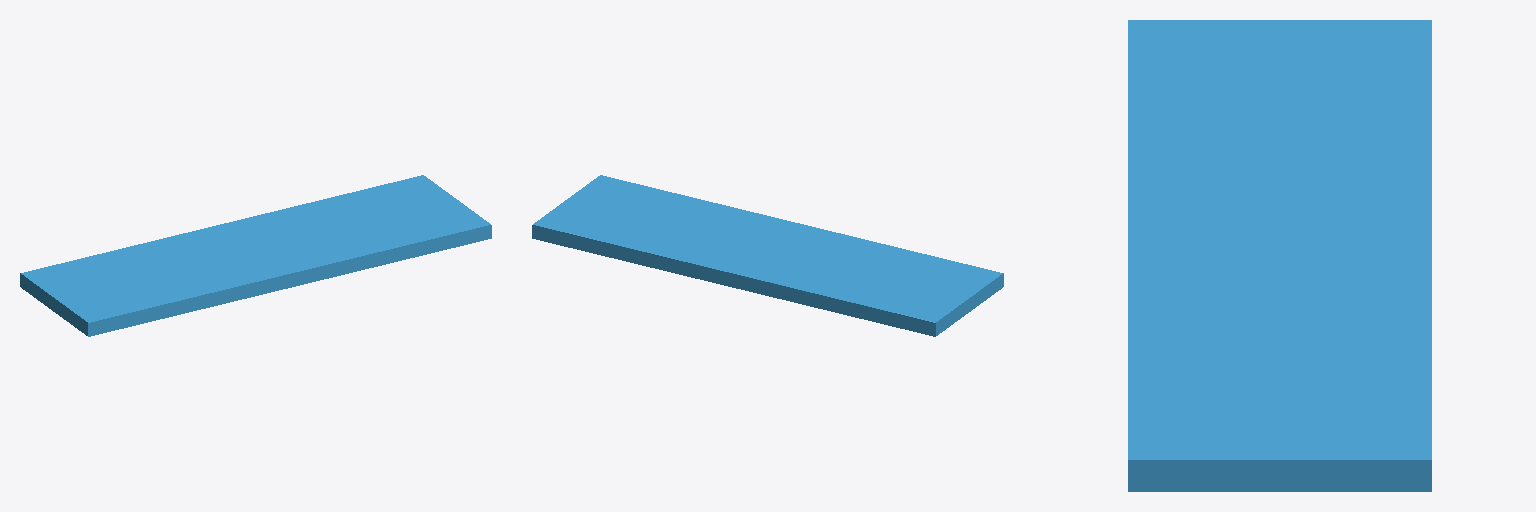
robot.urdf — cylinder_16:
    
    <robot name="cylinder_16">
        <link name="cylinder_16">    
            <fem>
                <origin rpy="0.0 0.0 0.0" xyz="0 0 0" />
                <density value="100" />
                <youngs value="8215"/>
                <poissons value="0.3" />
                <damping value="0.0" />
                <attachDistance value="0.01" />
                <tetmesh filename="[local-path]/sim_data/Custom/Custom_mesh/multi_cylinders_10kPa/cylinder_16.tet" />
                <scale value="0.5"/>
            </fem>
        </link>

        <link name="fix_frame">
            <visual>
                <origin xyz="0.0 0.0 10.073207908030156"/>
                <geometry>
                    <box size="0.15 0.04379873446901357 0.005"/>
                </geometry>
            </visual>
            <collision>
                <origin xyz="0.0 0.0 0.07320790803015535"/>
                <geometry>
                    <box size="0.15 0.04379873446901357 0.005"/>
                </geometry>
            </collision>
            <inertial>
                <mass value="500000"/>
                <inertia ixx="0.05" ixy="0.0" ixz="0.0" iyy="0.05" iyz="0.0" izz="0.05"/>
            </inertial>
        </link>
        
        <joint name = "attach" type = "fixed">
            <origin xyz = "0.0 0.0 0.0" rpy = "0 0 0"/>
            <parent link ="cylinder_16"/>
            <child link = "fix_frame"/>
        </joint>  




    </robot>
    

--- Facts derived from the render (not from the file) ---
Views: 3 orthographic renders of the robot side by side, from view 1: azimuth 30°, elevation 25°; view 2: azimuth 150°, elevation 25°; view 3: azimuth 270°, elevation 25°.
Model cylinder_16 with 2 links and 1 joints (1 fixed), rooted at cylinder_16, posed every joint at zero.
Links seen in each view (by area): view 1: fix_frame; view 2: fix_frame; view 3: fix_frame.
Link boxes in pixels (x1,y1,x2,y2): fix_frame: (20,175,491,336); fix_frame: (532,175,1003,336); fix_frame: (1128,20,1431,491).
Size in the robot's own frame: 0.15 by 0.0438 by 0.005 metres.
Geometry: primitives only (box / cylinder / sphere), no mesh files.